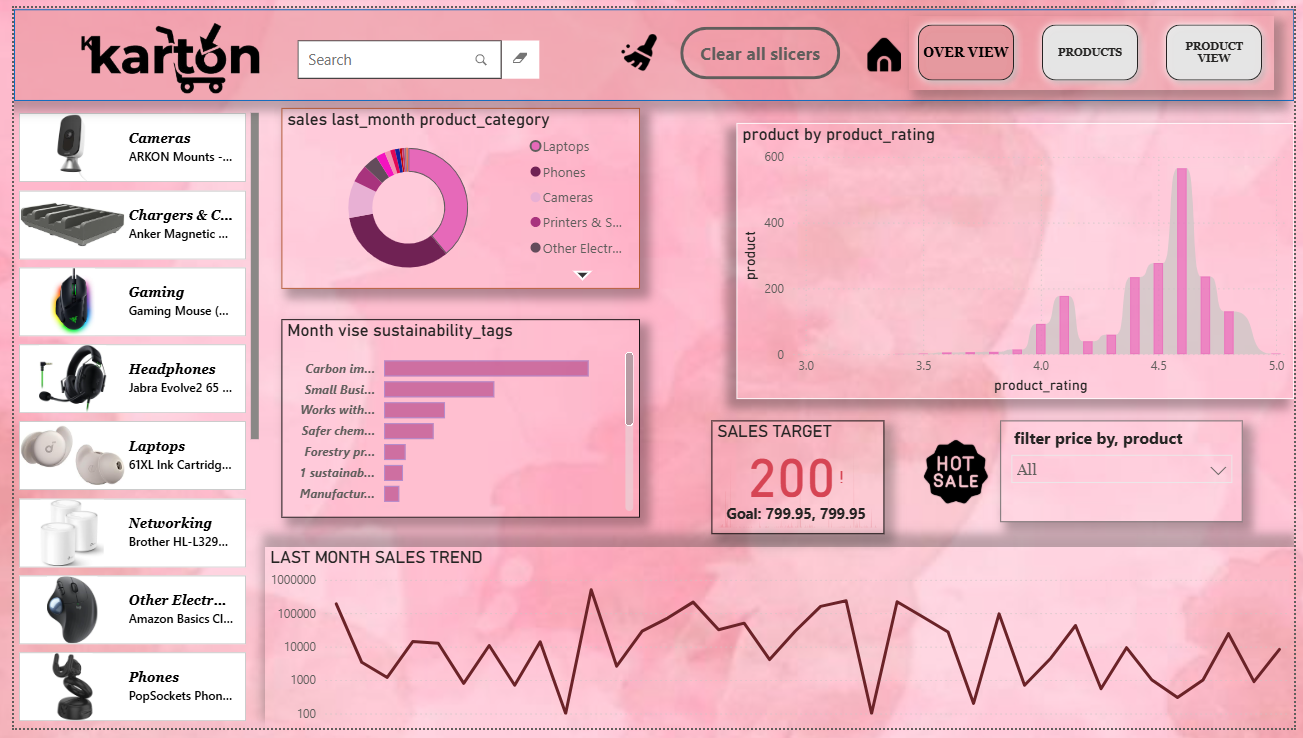

The page's visual inventory and layout, read from the dashboard file:
{"tool":"powerbi","page":{"name":"OVER VIEW","canvas":[1280,720],"ordinal":0},"visuals":[{"type":"advancedSlicerVisual","fields":{"Values":["amazon_products_sales_data_cleaned.product_category"]},"box":[0,100.3,250.7,620],"z":0},{"type":"shape","box":[0,1.2,1280.3,91.7],"z":1000},{"type":"pageNavigator","box":[895.1,7.3,364.4,74.6],"z":2000},{"type":"donutChart","title":"sales last_month  product_category","fields":{"Category":["amazon_products_sales_data_cleaned.product_category"],"Y":["Sum(amazon_products_sales_data_cleaned.purchased_last_month)"]},"box":[267.8,100.3,358.3,181],"z":3000},{"type":"lineChart","title":"LAST MONTH SALES TREND","fields":{"Category":["amazon_products_sales_data_cleaned.product_category","amazon_products_sales_data_cleaned.data_collected_at.Variation.Date Hierarchy.Year","amazon_products_sales_data_cleaned.data_collected_at.Variation.Date Hierarchy.Quarter","amazon_products_sales_data_cleaned.data_collected_at.Variation.Date Hierarchy.Month","amazon_products_sales_data_cleaned.data_collected_at.Variation.Date Hierarchy.Day"],"Y":["Sum(amazon_products_sales_data_cleaned.purchased_last_month)"]},"box":[250.7,539.3,1029.6,181],"z":4000},{"type":"ribbonChart","fields":{"Y":["CountNonNull(amazon_products_sales_data_cleaned.product_title)"],"Category":["amazon_products_sales_data_cleaned.product_rating"]},"box":[722.7,114.9,557.6,276.4],"z":5000},{"type":"clusteredBarChart","title":"Month vise sustainability_tags","fields":{"Y":["Sum(amazon_products_sales_data_cleaned.purchased_last_month)"],"Category":["amazon_products_sales_data_cleaned.sustainability_tags"]},"box":[267.8,311.8,358.3,198.1],"z":6000},{"type":"slicer","fields":{"Values":["amazon_products_sales_data_cleaned.original_price","amazon_products_sales_data_cleaned.product_title"]},"box":[986.2,412.5,242.5,101.2],"z":7000},{"type":"actionButton","box":[666.2,18.8,160,52.5],"z":8000},{"type":"image","box":[3,0,321.6,102.7],"z":9000},{"type":"image","box":[835,25,70,43.8],"z":10000},{"type":"image","box":[598.8,15,55,60],"z":11000},{"type":"image","box":[897.5,422.5,88.8,82.5],"z":12000},{"type":"textFilter25A4896A83E0487089E2B90C9AE57C8A","fields":{"field":["amazon_products_sales_data_cleaned.product_category"]},"box":[278.8,27.5,251.2,91.2],"z":12001},{"type":"kpi","title":"SALES TARGET","fields":{"Indicator":["Sum(amazon_products_sales_data_cleaned.purchased_last_month)"],"TrendLine":["amazon_products_sales_data_cleaned.product_title"],"Goal":["Sum(amazon_products_sales_data_cleaned.original_price)","Sum(amazon_products_sales_data_cleaned.discount percentage)"]},"box":[697.5,412.5,172.5,113.8],"z":12002}]}

Visuals, with their boxes in screenshot pixels (x1, y1, x2, y2), scaled from the page's 1280x720 canvas onto the 1303x738 screenshot:
advancedSlicerVisual - amazon_products_sales_data_cleaned.product_category: [x1=0, y1=103, x2=255, y2=737]
shape: [x1=0, y1=1, x2=1302, y2=95]
pageNavigator: [x1=911, y1=7, x2=1282, y2=84]
"sales last_month  product_category" donutChart: [x1=273, y1=103, x2=637, y2=288]
"LAST MONTH SALES TREND" lineChart: [x1=255, y1=553, x2=1302, y2=737]
ribbonChart - CountNonNull(amazon_products_sales_data_cleaned.product_title) x amazon_products_sales_data_cleaned.product_rating: [x1=736, y1=118, x2=1302, y2=401]
"Month vise sustainability_tags" clusteredBarChart: [x1=273, y1=320, x2=637, y2=523]
slicer - amazon_products_sales_data_cleaned.original_price x amazon_products_sales_data_cleaned.product_title: [x1=1004, y1=423, x2=1251, y2=527]
actionButton: [x1=678, y1=19, x2=841, y2=73]
image: [x1=3, y1=0, x2=330, y2=105]
image: [x1=850, y1=26, x2=921, y2=71]
image: [x1=610, y1=15, x2=666, y2=77]
image: [x1=914, y1=433, x2=1004, y2=518]
textFilter25A4896A83E0487089E2B90C9AE57C8A - amazon_products_sales_data_cleaned.product_category: [x1=284, y1=28, x2=540, y2=122]
"SALES TARGET" kpi: [x1=710, y1=423, x2=886, y2=539]
